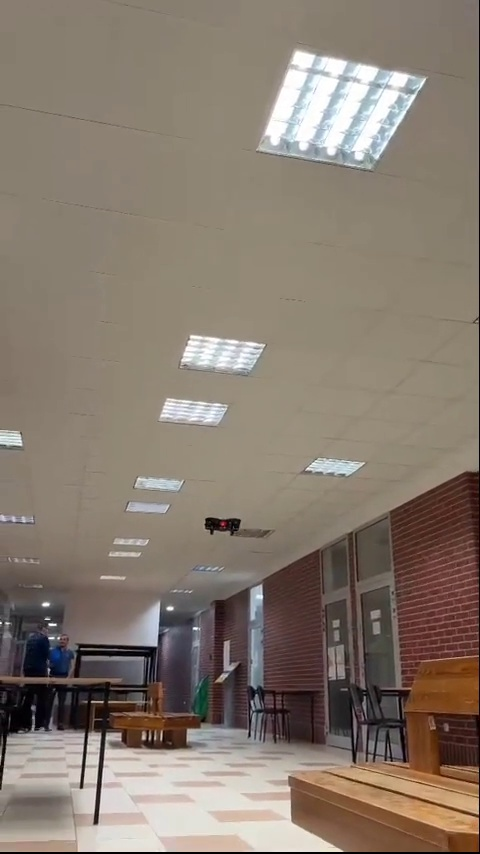drone: (200, 512, 243, 538)
no vest: (26, 620, 56, 722), (53, 634, 75, 724)
